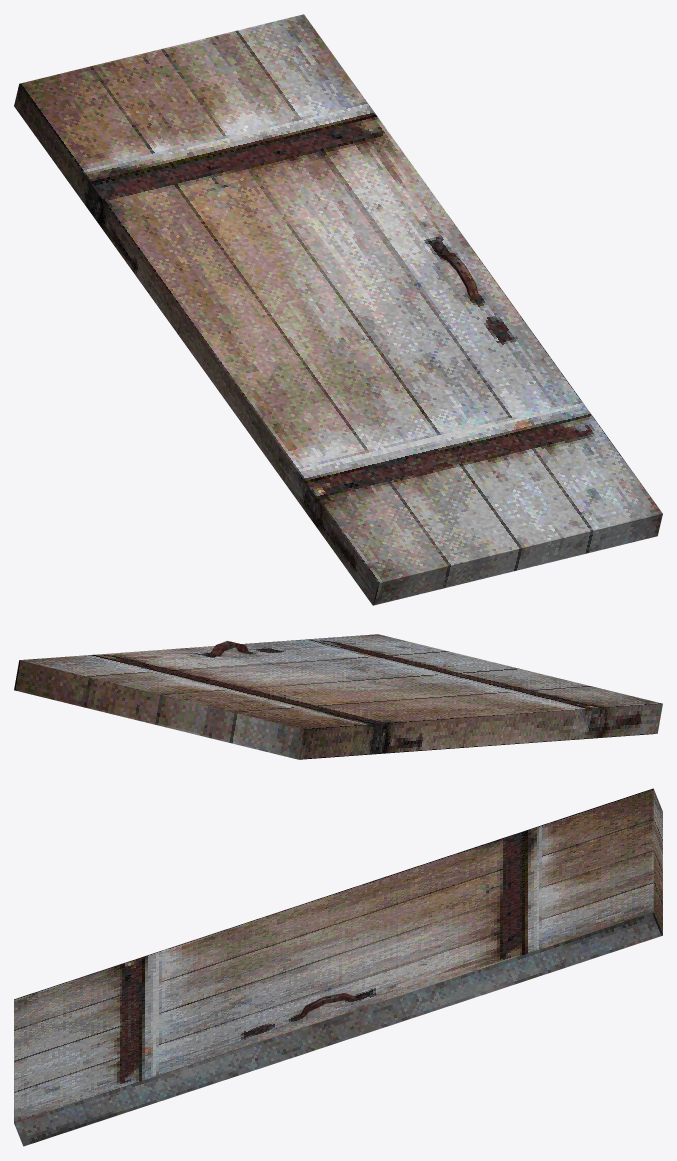
The model's file is door-cellarL.glb.
3 views of the same model, one above another, from view 1: azimuth 30°, elevation 25°; view 2: azimuth 150°, elevation 25°; view 3: azimuth 270°, elevation 25° (orthographic). The views are drawn at different scales.
Parts seen in each view (by area): view 1: door-cellarL.002; view 2: door-cellarL.002; view 3: door-cellarL.002.
Part boxes in pixels (<box>): door-cellarL.002: <box>14,14,662,605</box>; door-cellarL.002: <box>14,634,662,759</box>; door-cellarL.002: <box>14,788,662,1146</box>.
Bounding box in the file's own units: 0.8931 × 0.7886 × 1.98.
1 material, 1 textured.
